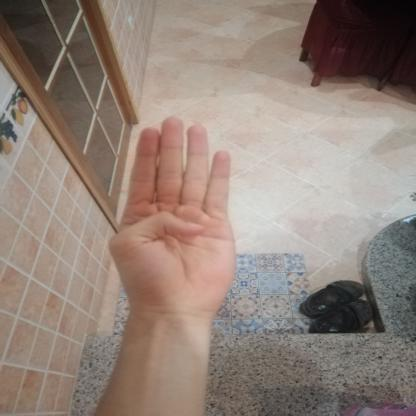KAAF: (94, 107, 250, 330)
